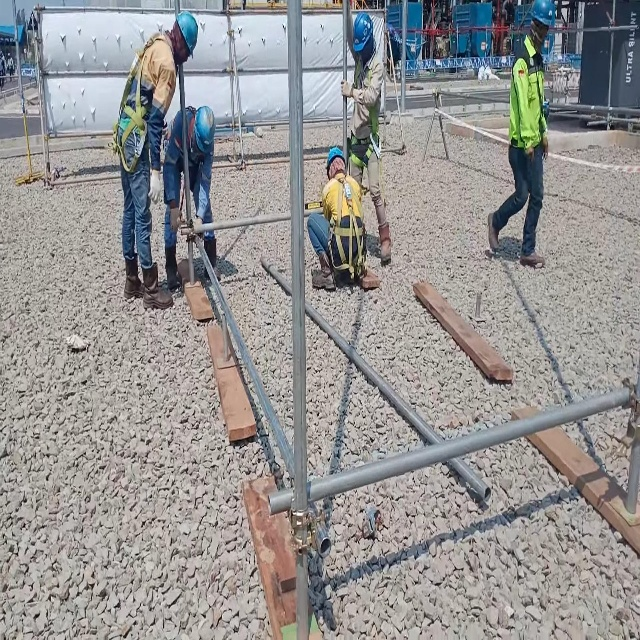Arnes_seguridad: (108, 27, 170, 176), (326, 168, 367, 284), (350, 52, 383, 169)
